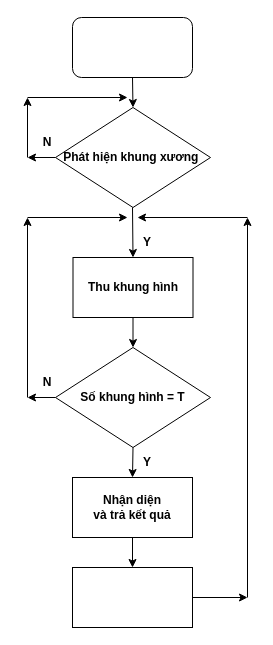
This 273x645 diagram has some shape labels left out. Here are the shapes that lost their labels. From the top down, the centre of each, then its label:
the point at 132,47: Bắt đầu
the point at 132,597: Cắt bớt 8 khung hình đầu tiên
